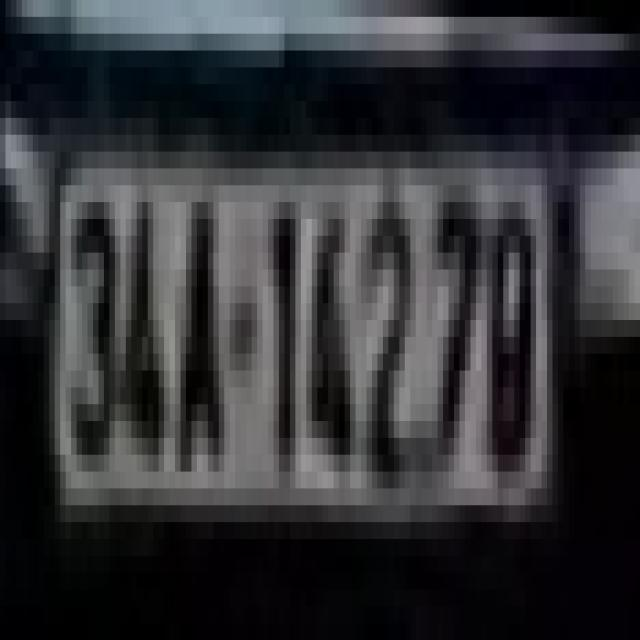0: (487, 186, 536, 488)
1: (260, 186, 304, 488)
2: (358, 186, 413, 488)
3: (63, 168, 118, 472)
4: (306, 186, 356, 488), (123, 177, 167, 480)
7: (427, 186, 481, 488)
A: (172, 168, 232, 488)
